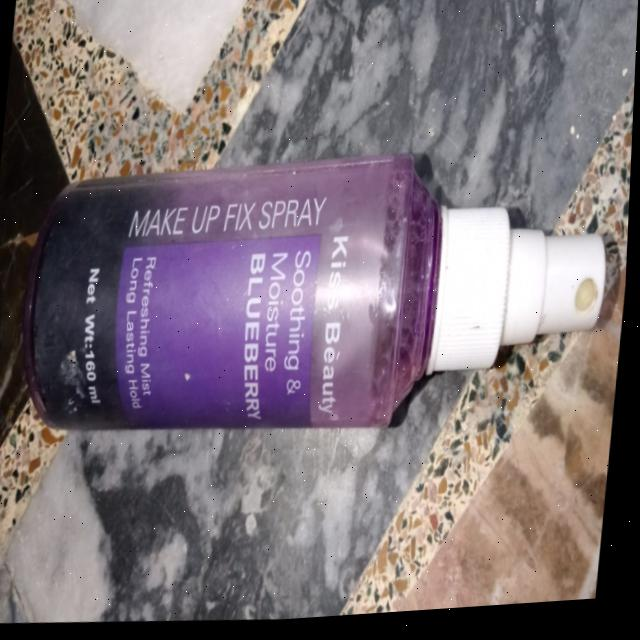setting spray: (0, 38, 637, 545)
